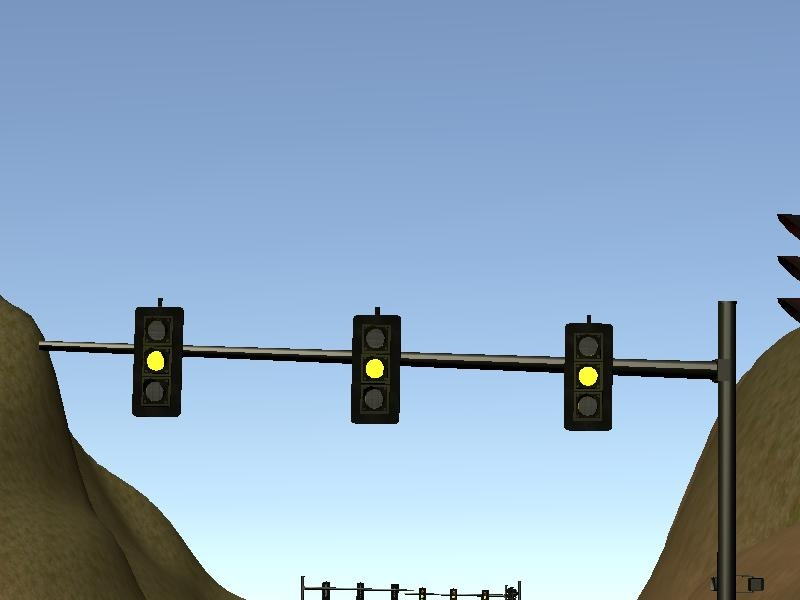YELLOW: (131, 306, 185, 416), (348, 313, 402, 423), (561, 322, 615, 432)
